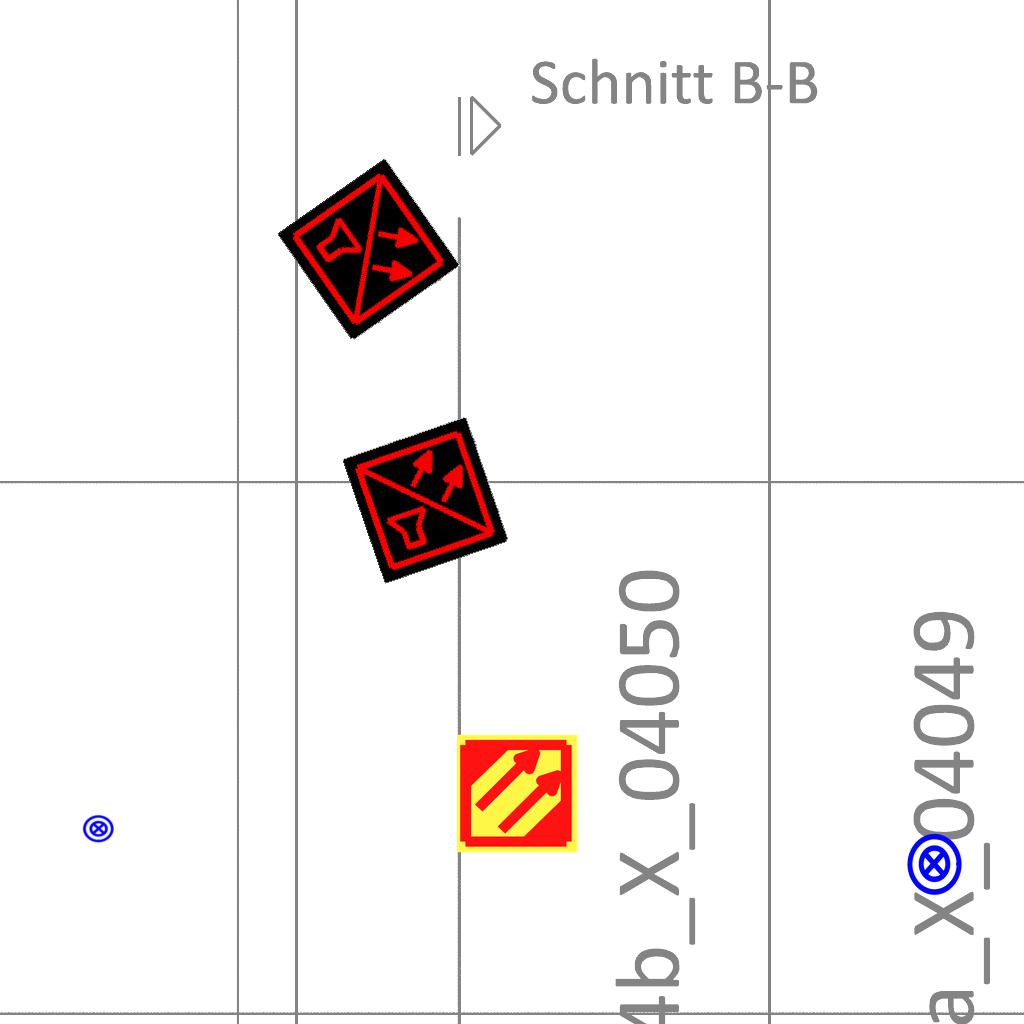ASR_Ansaugrauchmelder: (455, 731, 580, 856)
OKW_Multisensormelder_(Kombination_optischer_Rauch-Kahlenmonoxid_Waerme-Melder): (277, 158, 461, 342), (342, 416, 510, 584)
Taster_beleuchtet: (901, 831, 967, 897), (82, 812, 115, 845)
